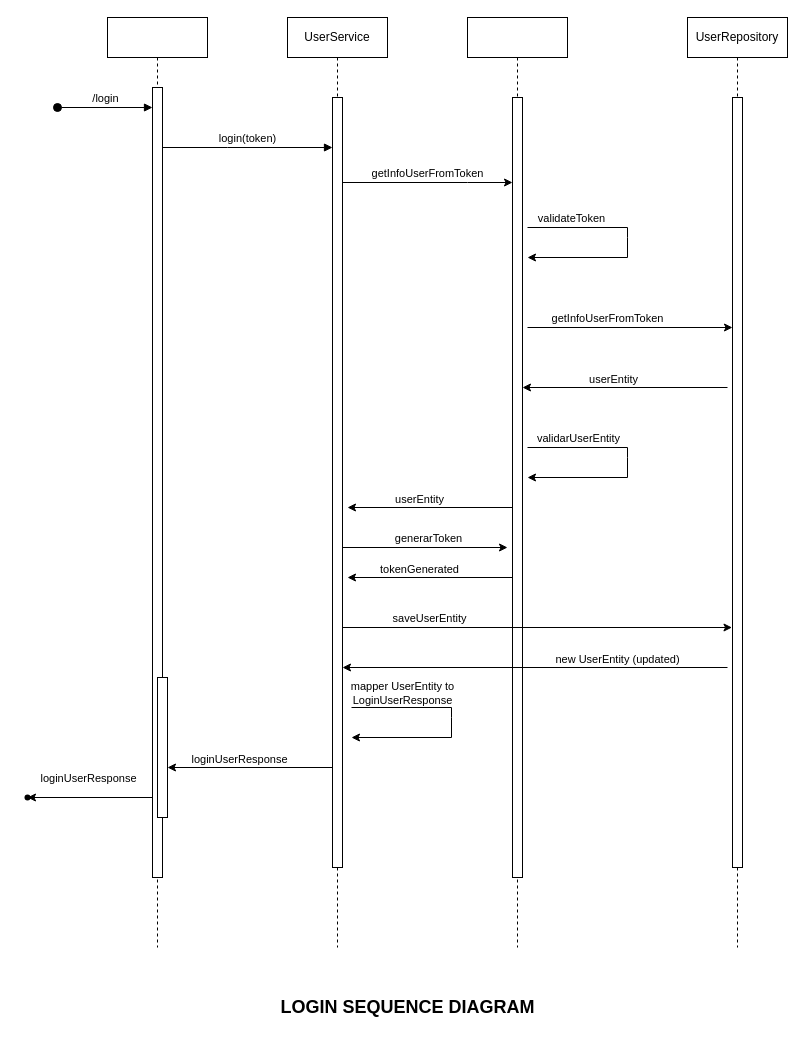
Image size: 805x1045. Some labels were removed from this diagram. Here are the shapes that lost their labels. From the top down, the box of each, then its label:
(106, 16, 208, 948): UserController
(466, 16, 568, 948): JwtService
